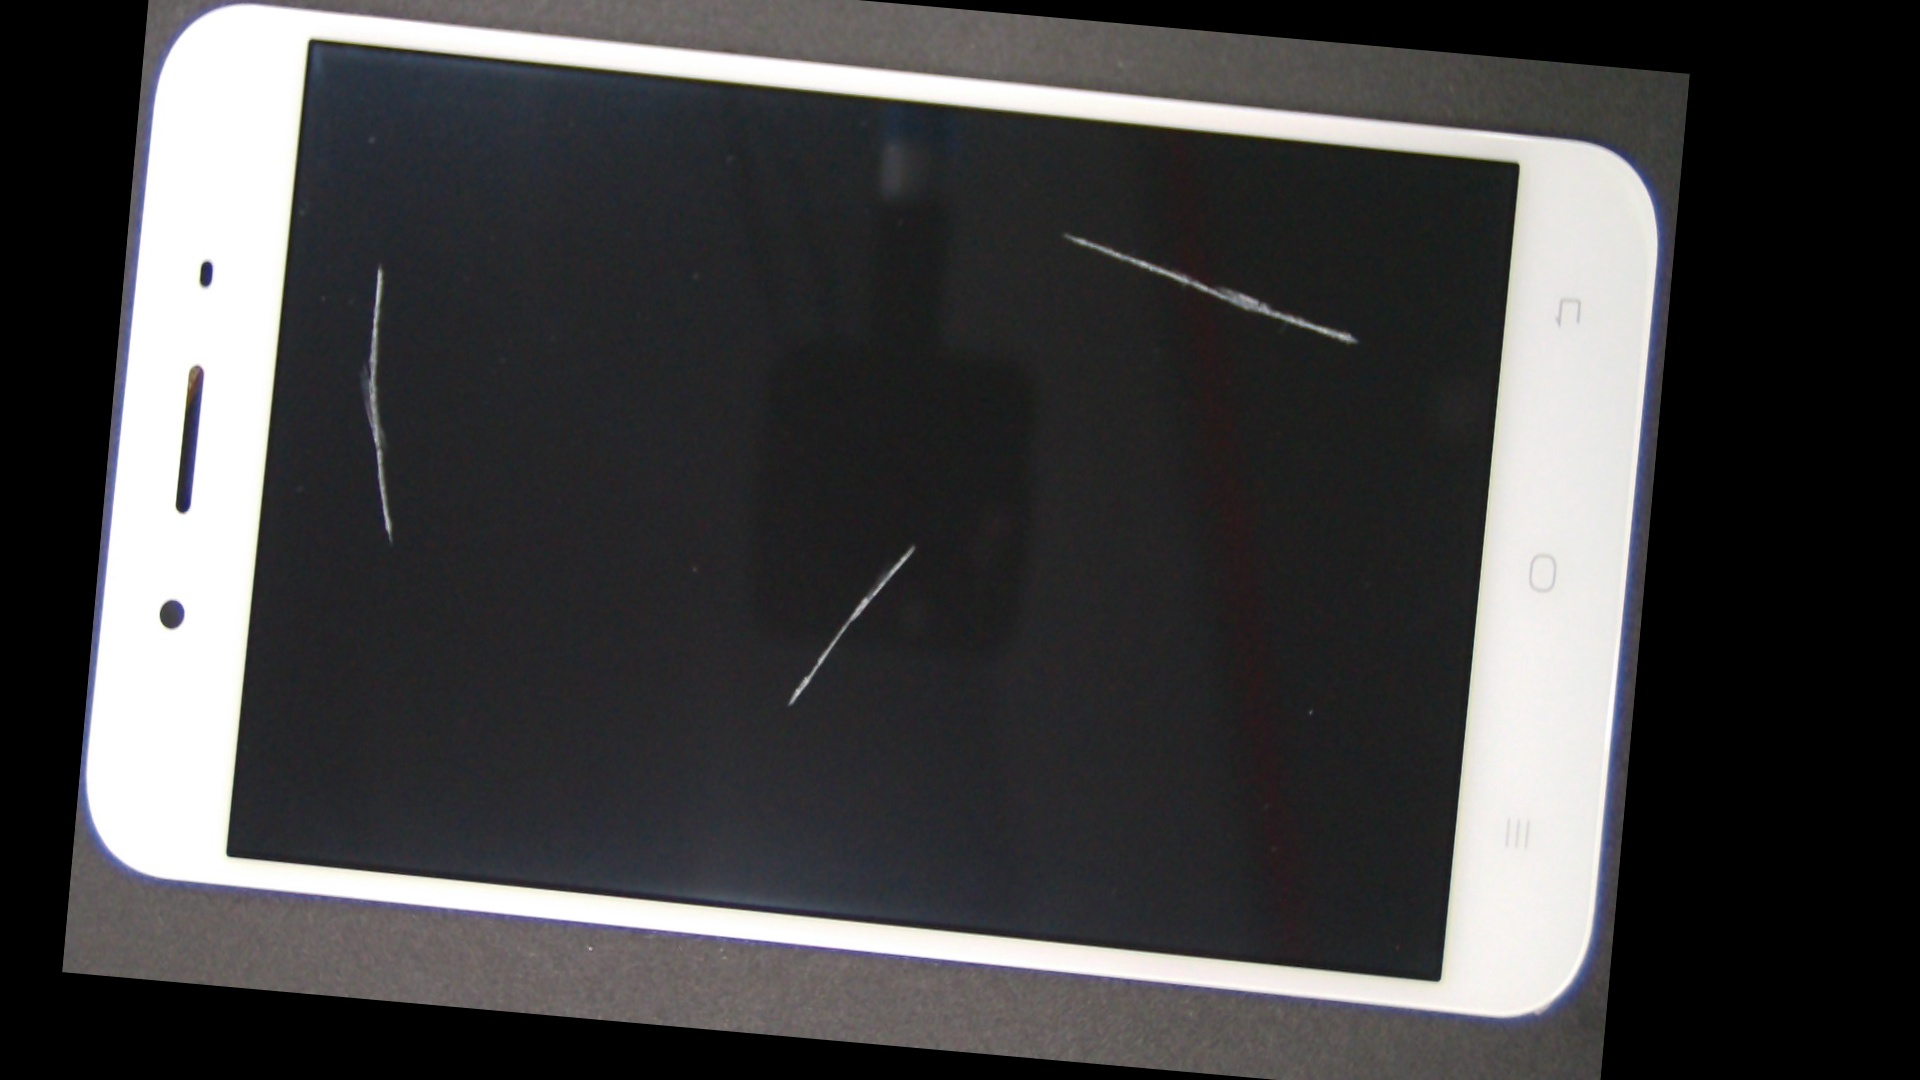oil: (487, 241, 1341, 849), (591, 84, 1539, 381), (239, 102, 518, 430)
